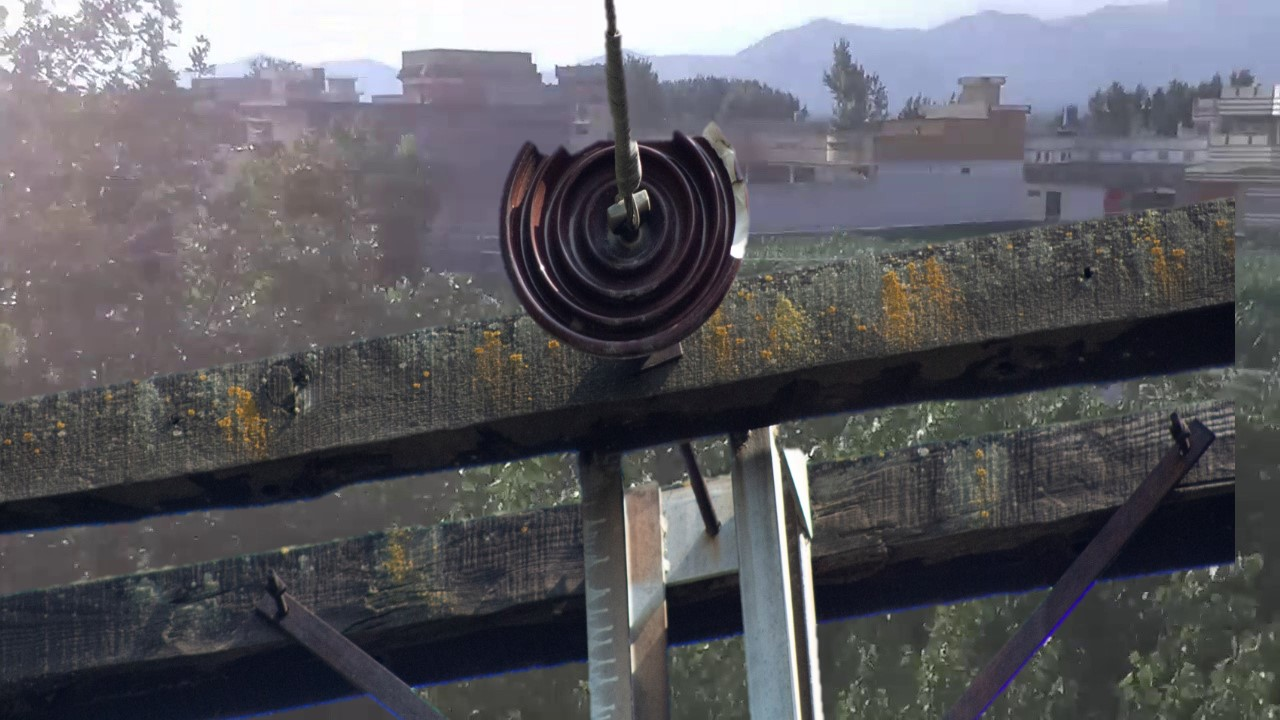defect_disc: (493, 119, 757, 371)
